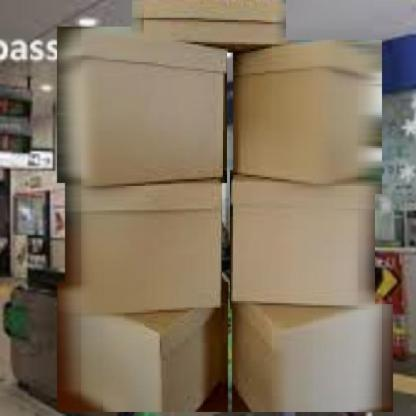-: (55, 24, 230, 186), (232, 38, 385, 198), (54, 281, 232, 414), (63, 182, 225, 317), (228, 168, 378, 312), (230, 303, 397, 414), (130, 0, 290, 53)
